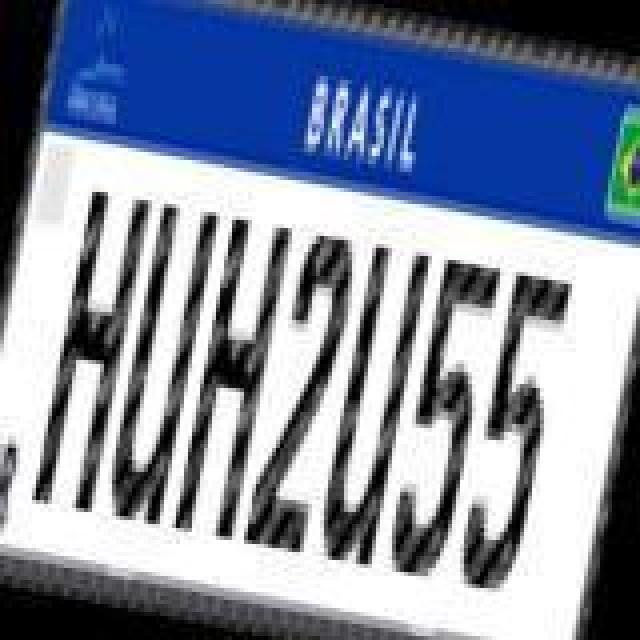2: (242, 224, 366, 560)
5: (382, 250, 506, 582), (452, 270, 572, 594)
H: (26, 184, 150, 520), (170, 210, 294, 542)
U: (98, 202, 222, 534), (310, 242, 434, 574)
